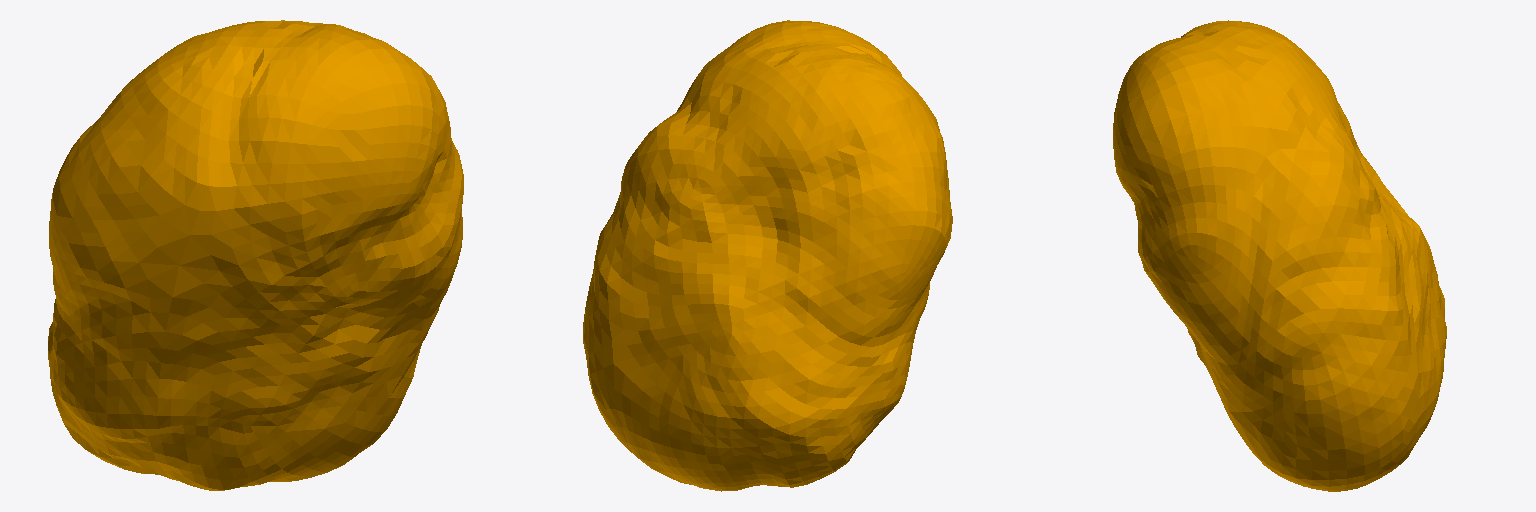
The robot description file, URDF, robot "rock":
<?xml version="1.0" ?>
<robot name="rock">
  <link name="rock">
    <inertial>
      <mass value="0.251"/>
      <origin rpy="0 0 0" xyz="0 0 0"/>
      <inertia ixx="0.000251" ixy="0" ixz="0" iyy="0.000251" iyz="0" izz="0.000251"/>
    </inertial>
    <collision name="rock_collision">
      <origin rpy="0 0 0" xyz="0 0 0"/>
      <geometry>
        <mesh filename="package://rocks/visual/213.dae" scale="1 1 1"/>
      </geometry>
    </collision>
    <visual name="rock_visual">
      <origin rpy="0 0 0" xyz="0 0 0"/>
      <geometry>
        <mesh filename="package://rocks/visual/213.dae" scale="1 1 1"/>
      </geometry>
    </visual>
  </link>
</robot>

--- What the picture shows (computed from the rendered views, not written in the file) ---
The picture shows the robot from 3 angles, left to right: view 1: azimuth 30°, elevation 25°; view 2: azimuth 150°, elevation 25°; view 3: azimuth 270°, elevation 25°; orthographic projection.
Robot: rock — 1 links, 0 joints (none); root link rock; default pose: every joint at zero.
Visible links, largest first — view 1: rock; view 2: rock; view 3: rock.
Link boxes in pixels (left/top/right/bottom): rock: left=48, top=20, right=463, bottom=490; rock: left=583, top=20, right=952, bottom=491; rock: left=1113, top=20, right=1446, bottom=491.
Bounding box of the posed robot: 0.0796 × 0.0707 × 0.0967 m (x, y, z).
1 mesh visuals loaded from 1 distinct referenced files (1 Collada DAE).